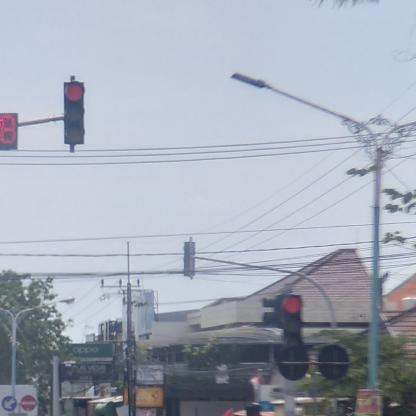red: (62, 81, 86, 146), (281, 294, 303, 354)
